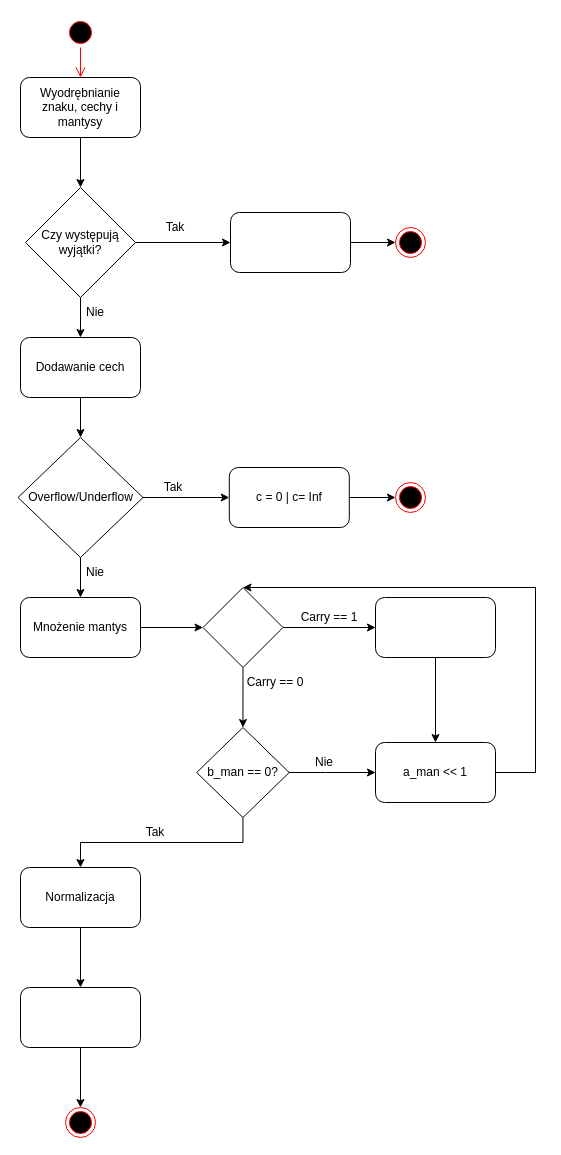
The diagram is 561 pixels wide and 1155 high, and some of its shapes have lost their labels. Each missing label, with the box of its shape:
b_man >> 1: (202, 586, 283, 668)
c=0 | c=Nan | c=Inf: (230, 212, 350, 272)
mul_man + a_man: (374, 596, 496, 658)
Przenoszenie wyniku: (20, 986, 140, 1048)
